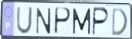D: (111, 7, 129, 38)
M: (72, 8, 92, 36)
N: (35, 7, 52, 35)
P: (53, 6, 73, 36), (92, 6, 111, 37)
U: (15, 6, 34, 35)
